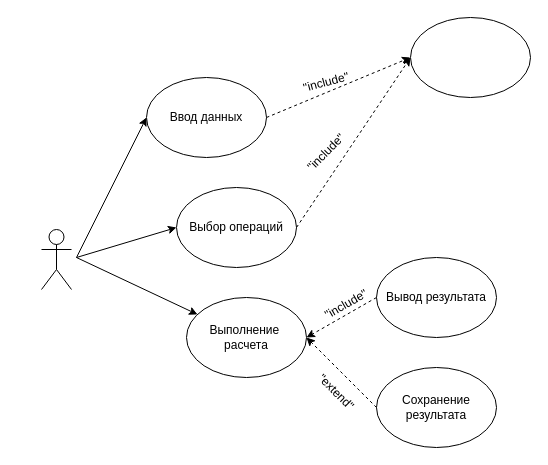
Image size: 548x465. Some labels were removed from this diagram. Each missing label, with the centre of its shape:
"Очистка ввода" goes at [470,57].
"Пользователь" goes at [56,259].
